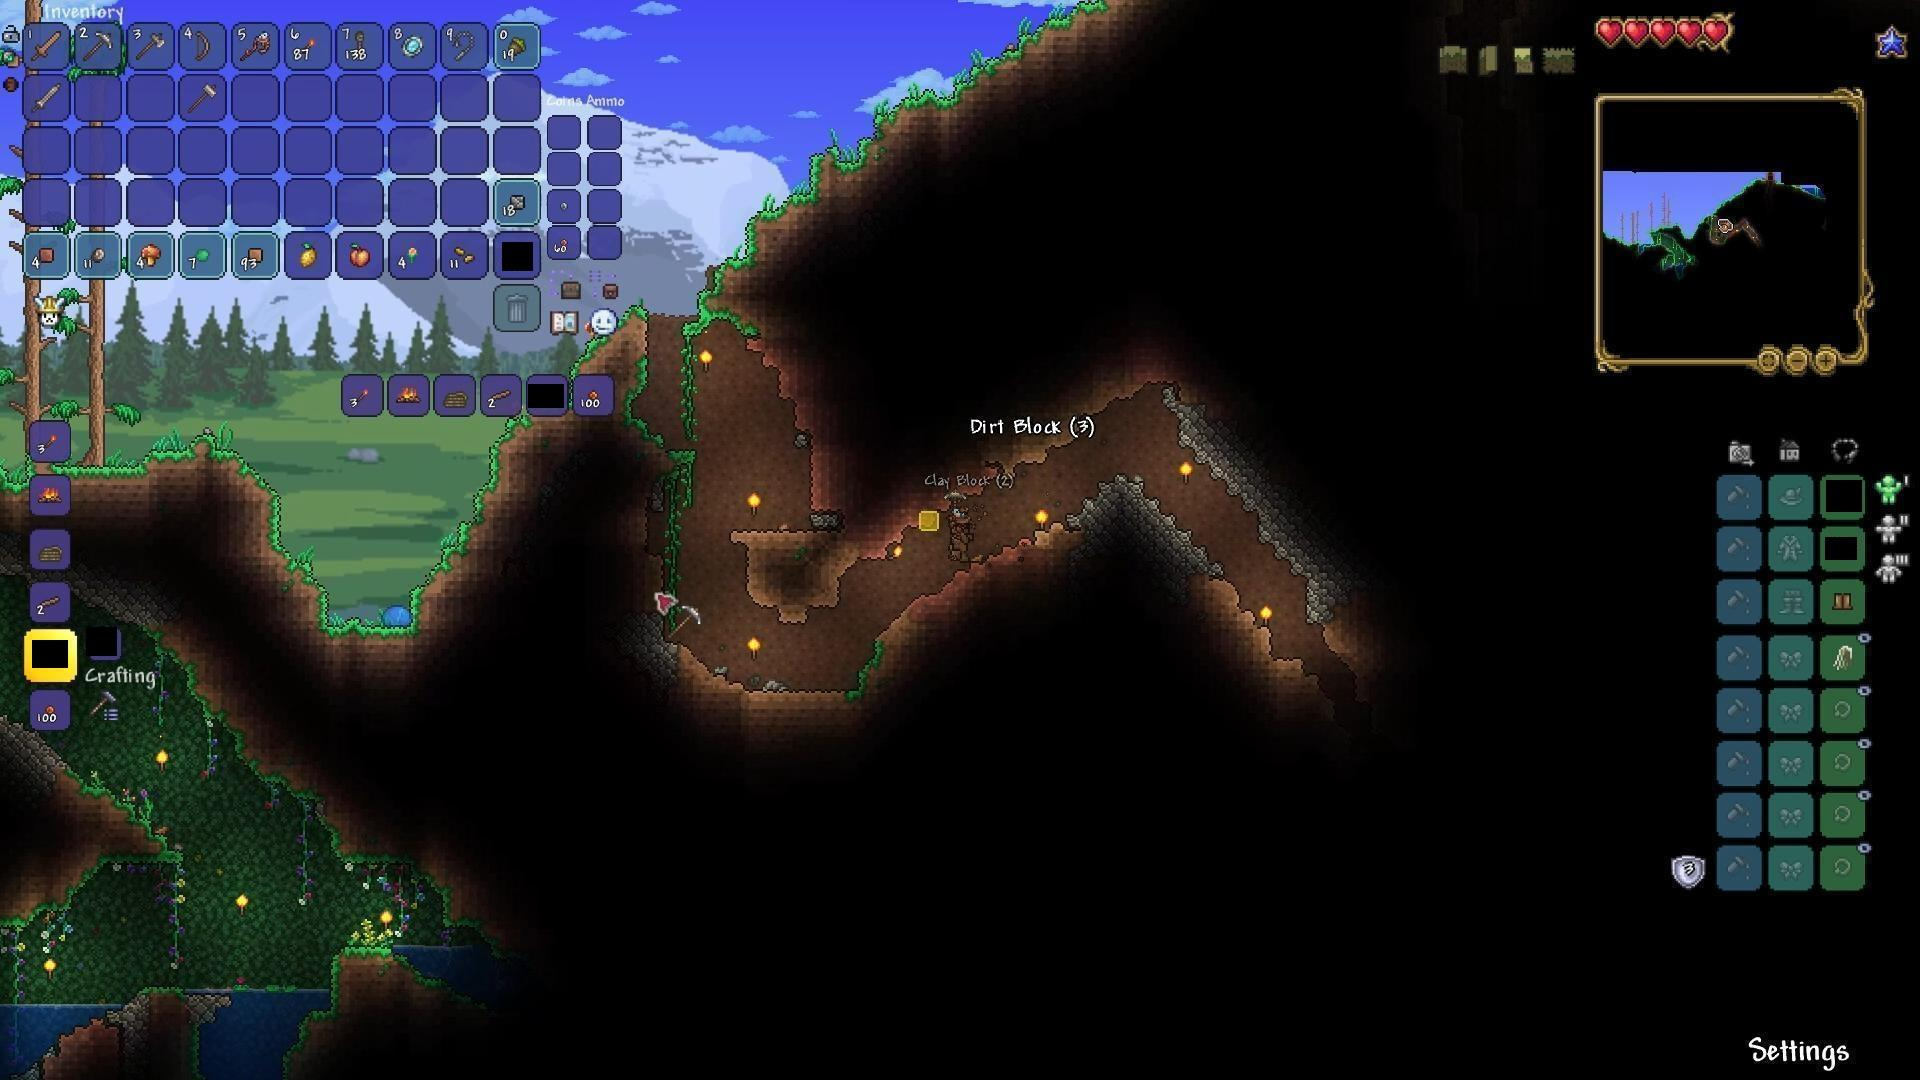legs: (1830, 588, 1855, 617)
slime: (382, 603, 411, 633)
